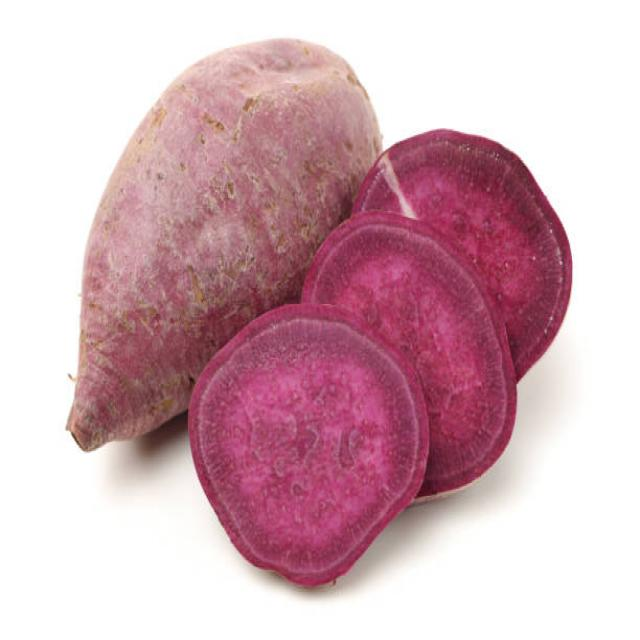Sweet Potato: (192, 306, 428, 585), (76, 38, 374, 214), (67, 128, 189, 464)
